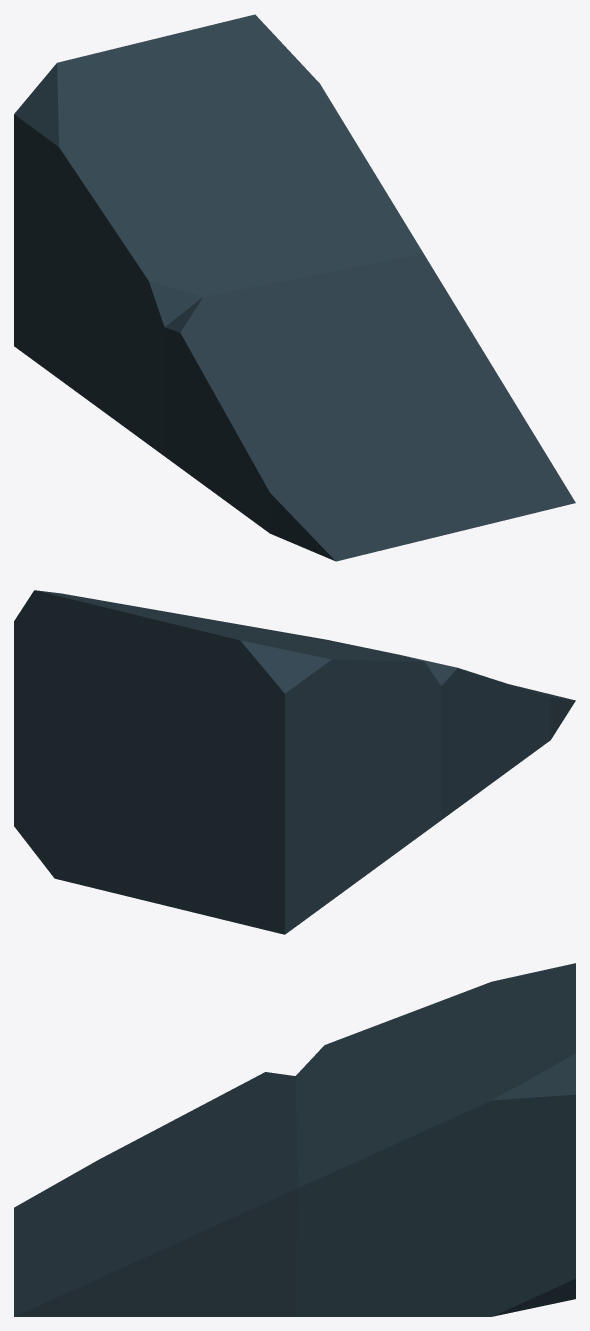
The model's file is ramp_long_straight_narrow.fbx.
3 renders of one model, top to bottom at view 1: azimuth 30°, elevation 25°; view 2: azimuth 150°, elevation 25°; view 3: azimuth 270°, elevation 25°, orthographic. The views are drawn at different scales.
Parts seen in each view (by area): view 1: ramp_long_straight_narrow; view 2: ramp_long_straight_narrow; view 3: ramp_long_straight_narrow.
Boxes of the visible parts, bbox=[...] form: ramp_long_straight_narrow: bbox=[14, 14, 575, 561]; ramp_long_straight_narrow: bbox=[14, 590, 575, 934]; ramp_long_straight_narrow: bbox=[14, 963, 575, 1316].
Size of the model in its own units: 100 by 100 by 200.
